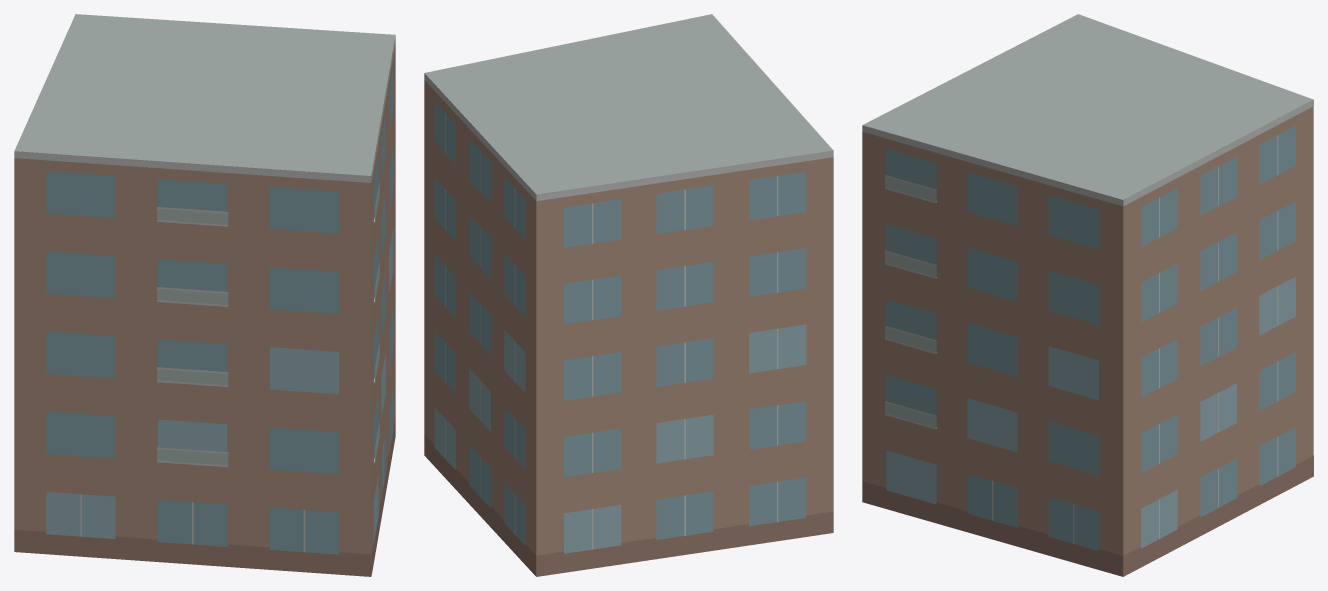
Rendered from survey-upis-32683443.glb.
3 renders of one model, left to right at view 1: azimuth 30°, elevation 25°; view 2: azimuth 150°, elevation 25°; view 3: azimuth 270°, elevation 25°, orthographic. The views are drawn at different scales.
Parts seen in each view (by area): view 1: survey-upis-32683443.tmp; view 2: survey-upis-32683443.tmp; view 3: survey-upis-32683443.tmp.
Boxes of the visible parts, x1=… form: survey-upis-32683443.tmp: x1=14, y1=14, x2=395, y2=576; survey-upis-32683443.tmp: x1=424, y1=14, x2=833, y2=576; survey-upis-32683443.tmp: x1=862, y1=14, x2=1313, y2=576.
Bounding box in the file's own units: 14.82 × 14 × 15.2.
